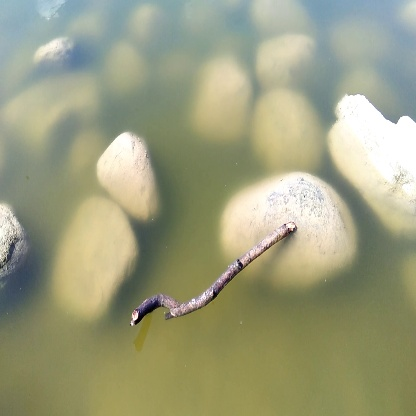branch: (128, 222, 304, 330)
